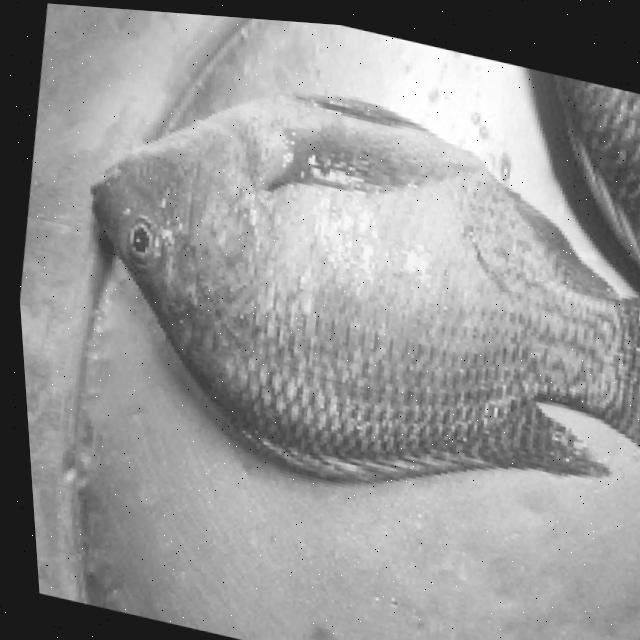Fresh: (17, 28, 640, 579)
